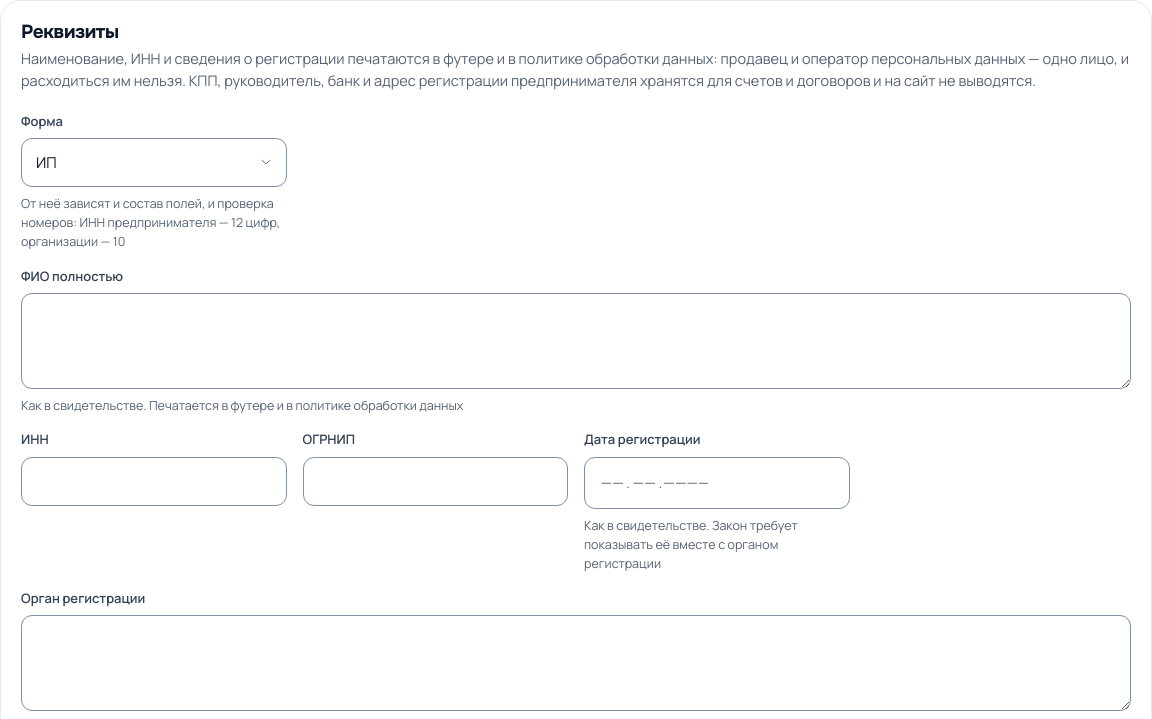
Test: Реквизиты: состав зависит от формы регистрации › пустую группу менять не страшно — вопрос лишний
Select "ООО" in the dropdown labelled "Форма" at {"x": 154, "y": 162}, box x1=21 y1=138 x2=286 y2=187
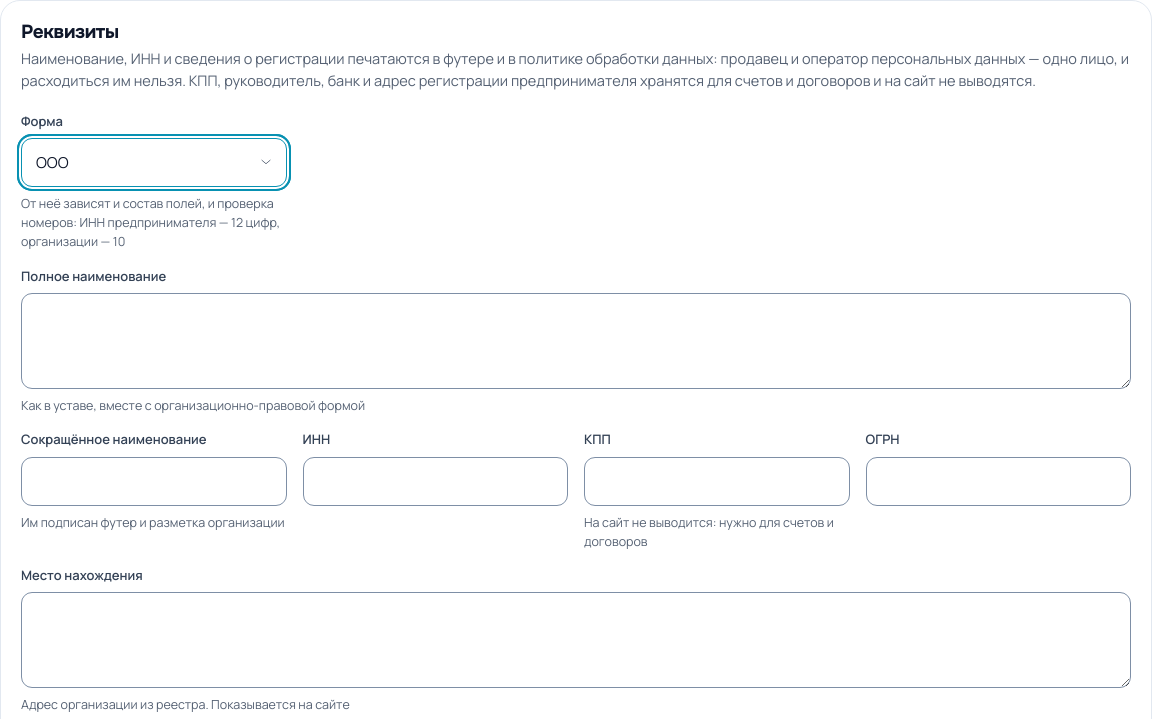
Check: the field labelled "КПП" is shown, box x1=584 y1=456 x2=850 y2=506
